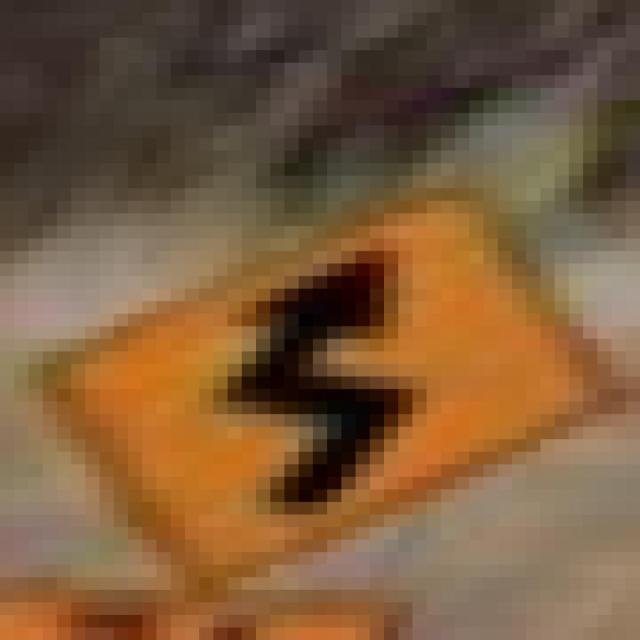Tikungan Ganda Pertama Ke Kiri: (0, 150, 626, 577)
